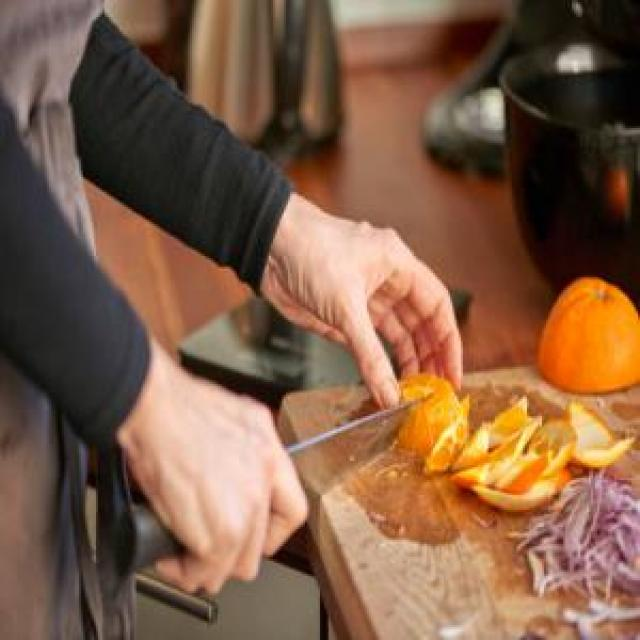knife: (117, 386, 430, 573)
